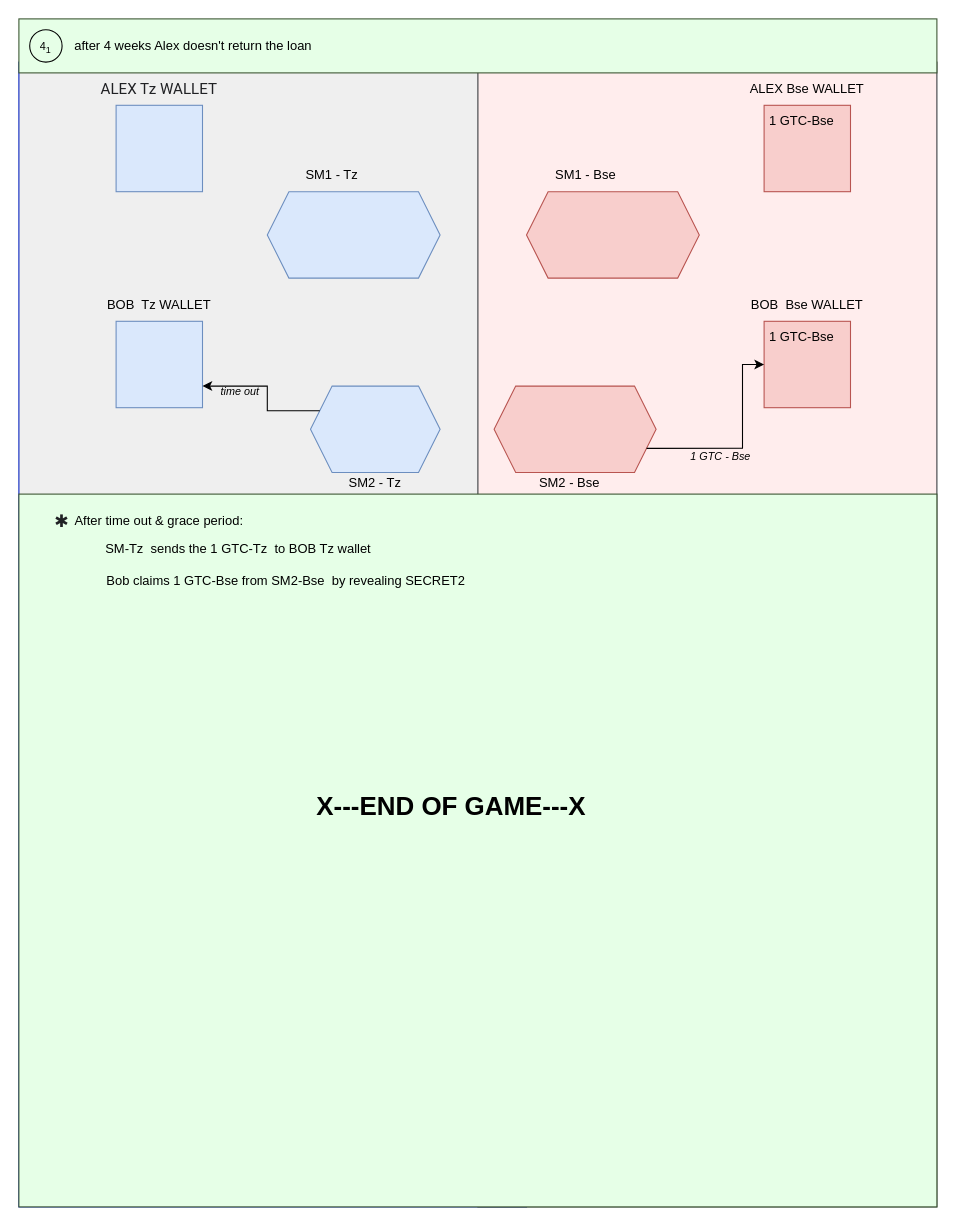
Image size: 956x1226. Some labels were removed from this diagram. Here are the shapes that lost their labels. From the top down, the centre of each, then its label:
[158,364]: 1 GTC-Tz 0.02 Tz
[574,429]: locked by SECRET2
